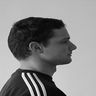ear: (25, 37, 49, 59)
